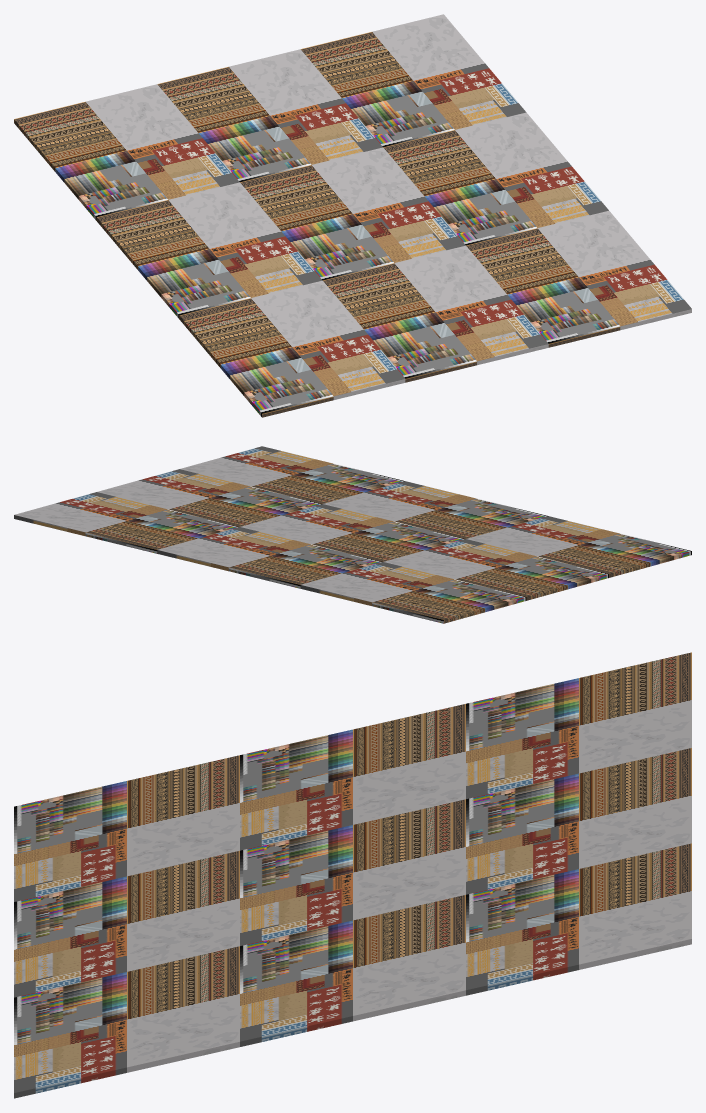
File: ancient_SM_Bld_Roof_Straight_Thin_Large_01.gltf
3 renders of one model, top to bottom at view 1: azimuth 30°, elevation 25°; view 2: azimuth 150°, elevation 25°; view 3: azimuth 270°, elevation 25°, orthographic. The views are drawn at different scales.
Visible parts, largest first — view 1: SM_Bld_Roof_Straight_Thin_Large_01; view 2: SM_Bld_Roof_Straight_Thin_Large_01; view 3: SM_Bld_Roof_Straight_Thin_Large_01.
Boxes of the visible parts, bbox=[...] form: SM_Bld_Roof_Straight_Thin_Large_01: bbox=[14, 14, 691, 417]; SM_Bld_Roof_Straight_Thin_Large_01: bbox=[14, 446, 691, 623]; SM_Bld_Roof_Straight_Thin_Large_01: bbox=[14, 652, 691, 1098].
Bounding box in the file's own units: 7.5 × 1.95 × 7.5.
1 material, 1 textured.
